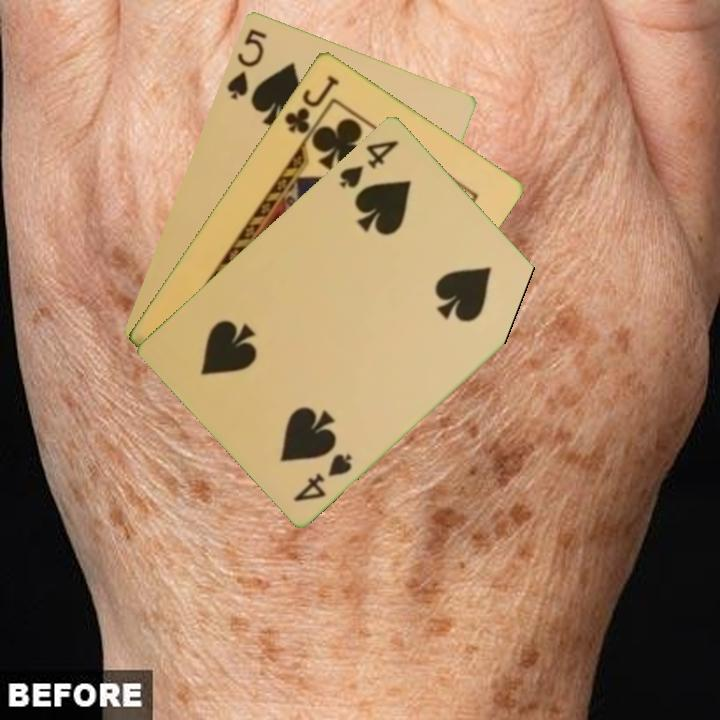4s: (336, 135, 402, 191), (289, 449, 355, 505)
5s: (223, 25, 270, 102)
Jc: (280, 71, 342, 137)
